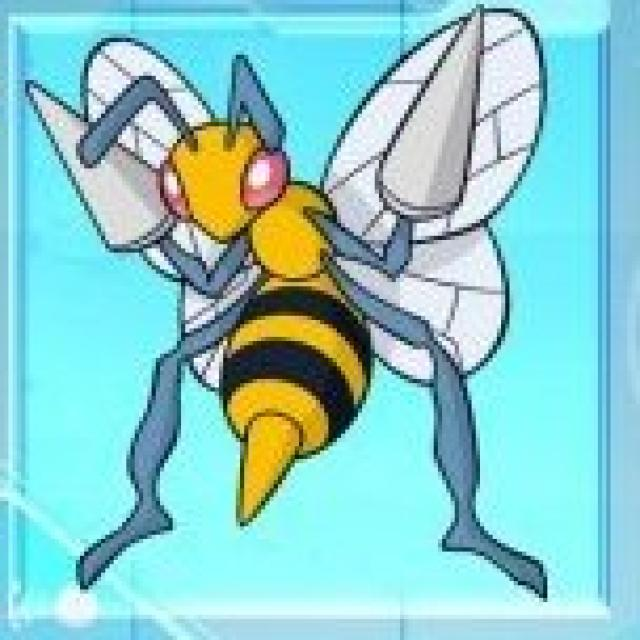Beedrill: (82, 14, 515, 532)
